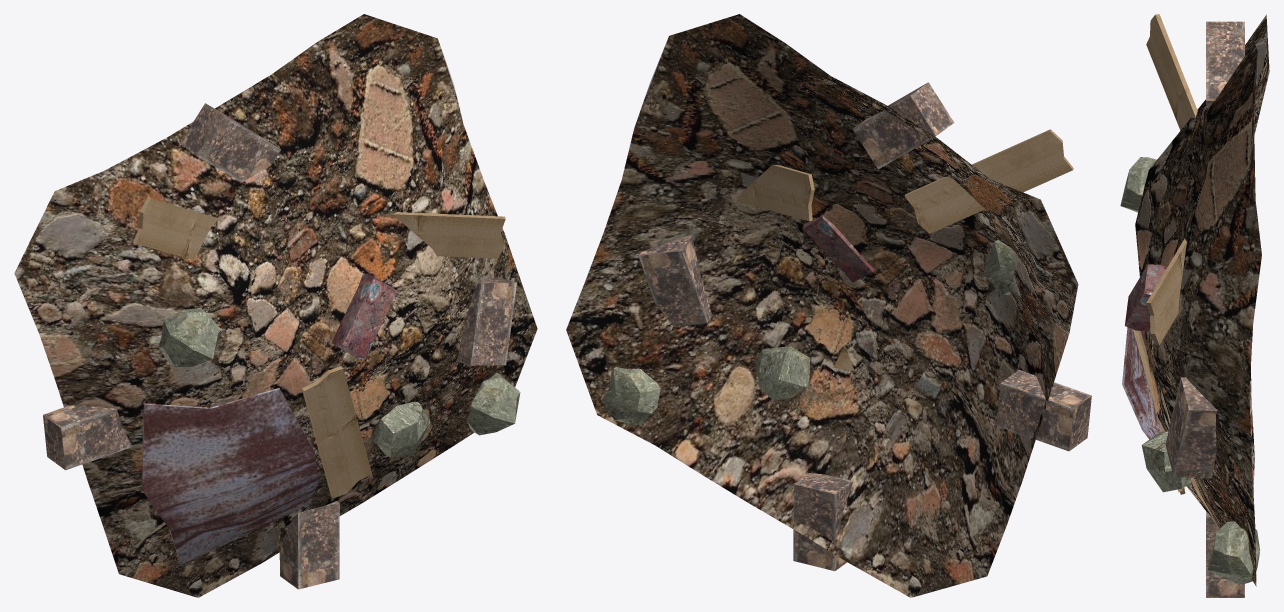
The model's file is debries 1.obj.
3 views of the same model, side by side, from view 1: azimuth 30°, elevation 25°; view 2: azimuth 150°, elevation 25°; view 3: azimuth 270°, elevation 25° (orthographic). The views are drawn at different scales.
Parts seen in each view (by area): view 1: Plane.003_Plane.004; view 2: Plane.003_Plane.004; view 3: Plane.003_Plane.004.
Part boxes in pixels (x1,y1,x2,y2): Plane.003_Plane.004: (14,14,537,597); Plane.003_Plane.004: (566,14,1091,597); Plane.003_Plane.004: (1120,14,1269,597).
Bounding box in the file's own units: 0.2201 × 0.2205 × 0.0523.
1 material, 1 textured.
